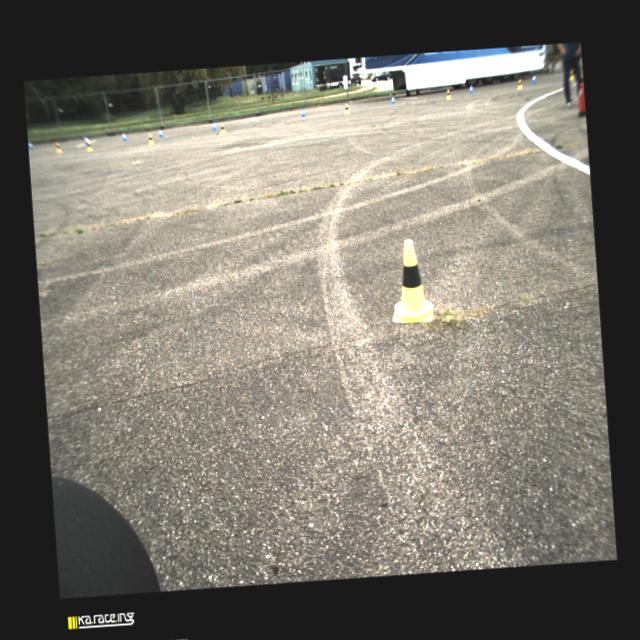blue_cone: (390, 95, 396, 104), (530, 74, 536, 83), (158, 127, 163, 137), (300, 108, 306, 116), (27, 142, 33, 150), (211, 121, 216, 130), (468, 84, 473, 93), (83, 136, 88, 144), (122, 132, 126, 140)
yellow_cone: (387, 238, 434, 324), (219, 122, 226, 134), (54, 142, 62, 152), (86, 140, 93, 151), (445, 88, 451, 100), (344, 102, 350, 114), (148, 133, 154, 145), (516, 78, 522, 89), (568, 70, 574, 80)
